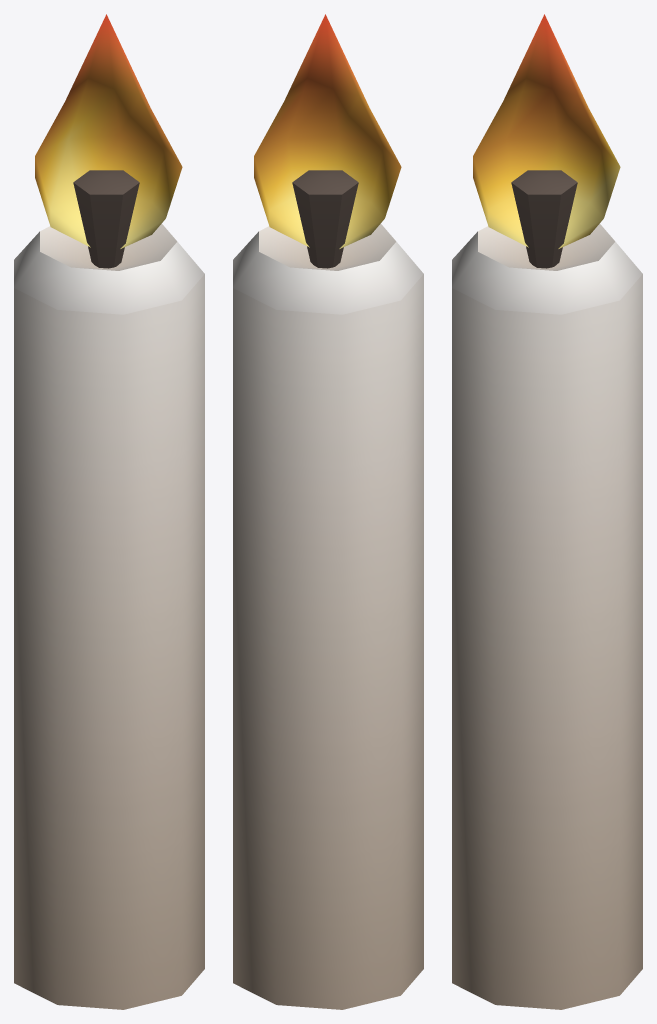
File: candle_thin_lit.gltf
3 renders of one model, left to right at view 1: azimuth 30°, elevation 25°; view 2: azimuth 150°, elevation 25°; view 3: azimuth 270°, elevation 25°, orthographic.
Visible parts, largest first — view 1: candle_thin_lit; view 2: candle_thin_lit; view 3: candle_thin_lit.
Part boxes in pixels (x1,y1,x2,y2): candle_thin_lit: (14,14,204,1009); candle_thin_lit: (233,14,423,1009); candle_thin_lit: (452,14,642,1009).
Bounding box in the file's own units: 0.1932 × 1.05 × 0.1903.
Materials: 1 (1 with a texture image).
